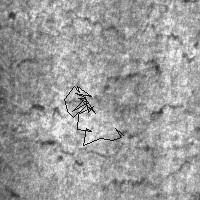crazing: (36, 6, 195, 89), (1, 57, 192, 122), (8, 127, 198, 192), (64, 86, 123, 145)
